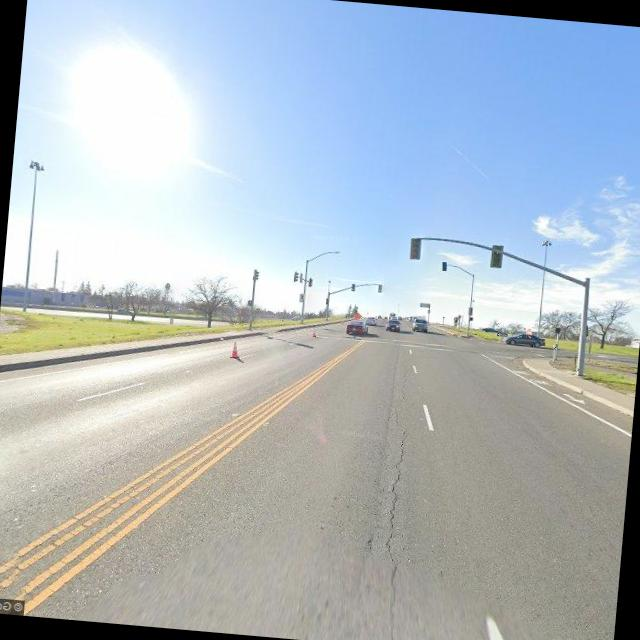pothole: (373, 416, 417, 576)
